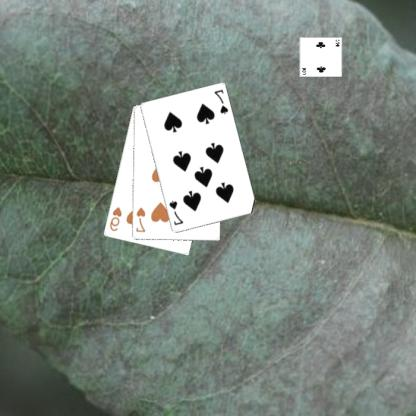6H: (109, 204, 124, 232)
7H: (135, 205, 148, 234)
7S: (168, 198, 186, 227), (214, 87, 232, 116)
